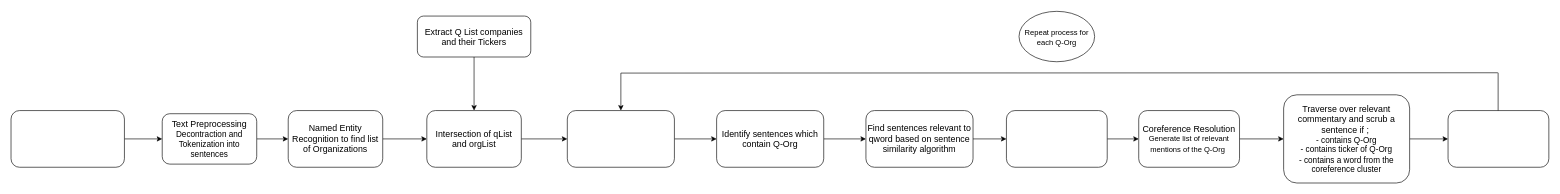
This 1560x194 diagram has some shape labels left out. Each missing label, with the centre of its shape:
For each Q-Org from final intersection list: the point at 620,138
Generate new commentary with scrubbed content: the point at 1498,138
Get final relevant commentary for that Q-Org: the point at 1056,138
PDF Commentary Subscription Summary HTML Commentary: the point at 67,138
